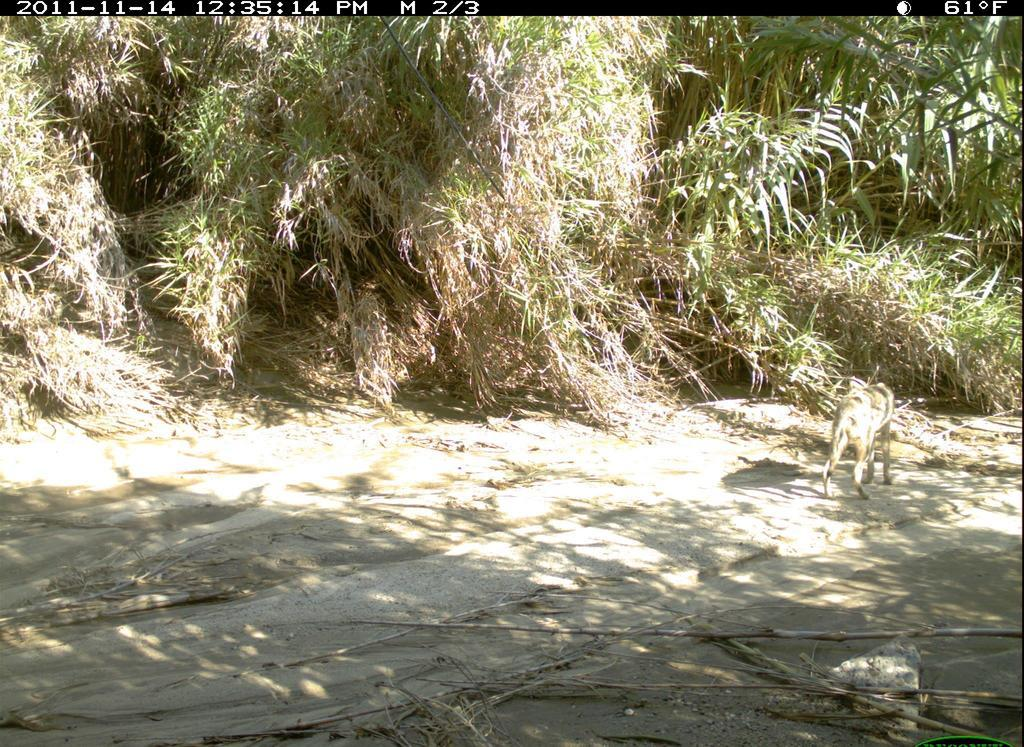coyote: (815, 376, 912, 511)
